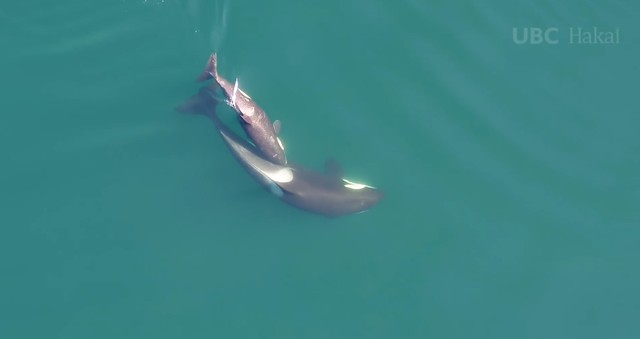whale: (170, 78, 395, 231), (181, 44, 300, 177)
